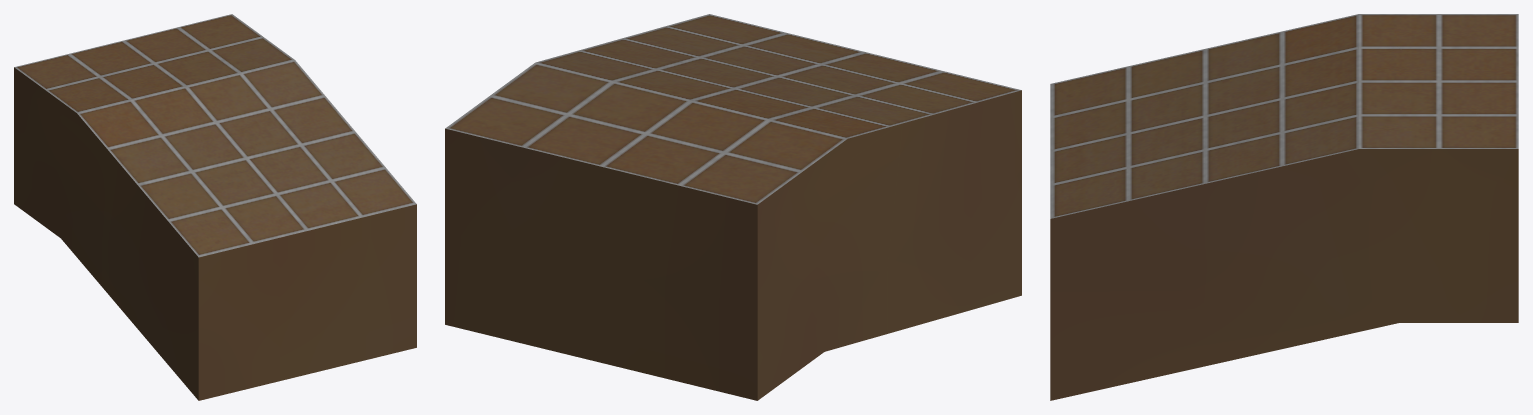
The model's file is set_floor_02_slope_start_half.fbx.
3 views of the same model, side by side, from view 1: azimuth 30°, elevation 25°; view 2: azimuth 150°, elevation 25°; view 3: azimuth 270°, elevation 25° (orthographic). The views are drawn at different scales.
Visible parts, largest first — view 1: set_floor_02_slope_start_half; view 2: set_floor_02_slope_start_half; view 3: set_floor_02_slope_start_half.
Boxes of the visible parts, x1,y1,x2,y2 form: set_floor_02_slope_start_half: [14, 14, 416, 400]; set_floor_02_slope_start_half: [445, 14, 1021, 400]; set_floor_02_slope_start_half: [1050, 14, 1518, 400].
Size of the model in its own units: 100 by 86.98 by 147.
